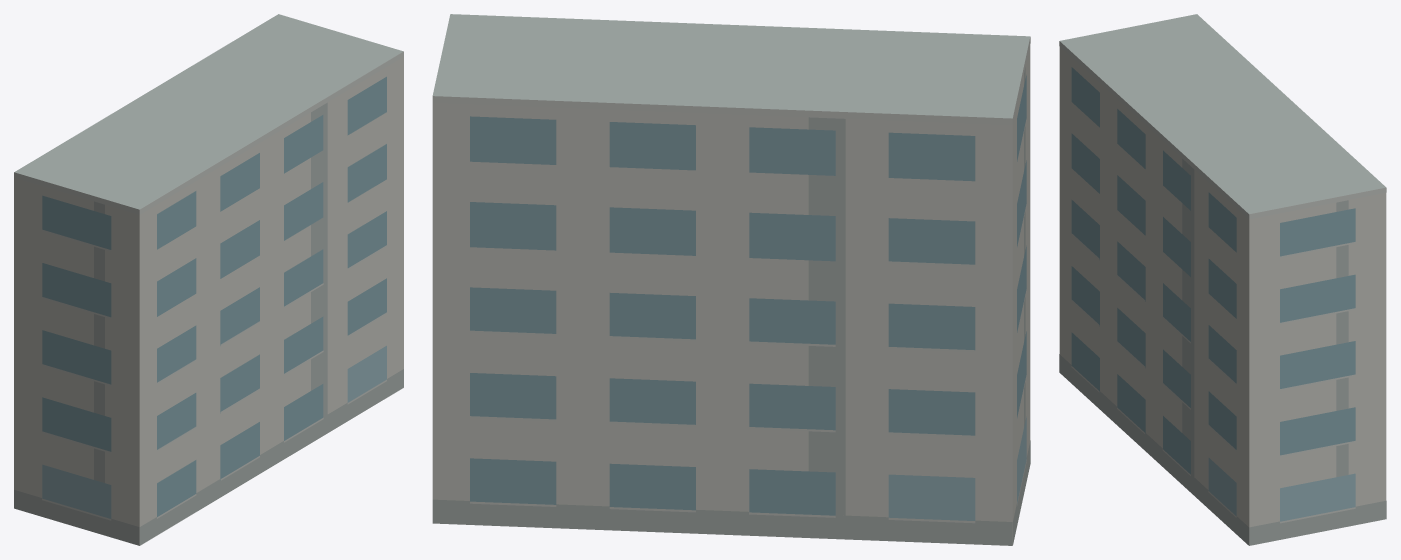
File: residential-d12627b6-5c63-402f-b5d0-c40ec375a804.glb
3 views of the same model, side by side, from view 1: azimuth 30°, elevation 25°; view 2: azimuth 150°, elevation 25°; view 3: azimuth 270°, elevation 25° (orthographic). The views are drawn at different scales.
Parts seen in each view (by area): view 1: residential-d12627b6-5c63-402f-b5d0-c40ec375a804.tmp; view 2: residential-d12627b6-5c63-402f-b5d0-c40ec375a804.tmp; view 3: residential-d12627b6-5c63-402f-b5d0-c40ec375a804.tmp.
Boxes of the visible parts, bbox=[...] form: residential-d12627b6-5c63-402f-b5d0-c40ec375a804.tmp: bbox=[14, 14, 403, 545]; residential-d12627b6-5c63-402f-b5d0-c40ec375a804.tmp: bbox=[432, 14, 1030, 545]; residential-d12627b6-5c63-402f-b5d0-c40ec375a804.tmp: bbox=[1059, 14, 1386, 545].
Size of the model in its own units: 19.76 by 15.25 by 13.64.
